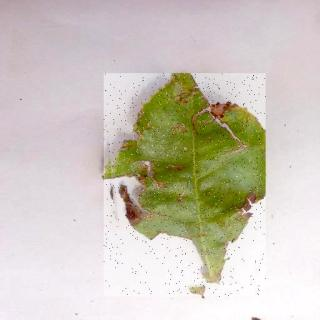Algal Leaf: (105, 75, 267, 299)
